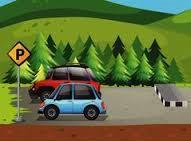car: (28, 62, 106, 100), (37, 81, 108, 121)
